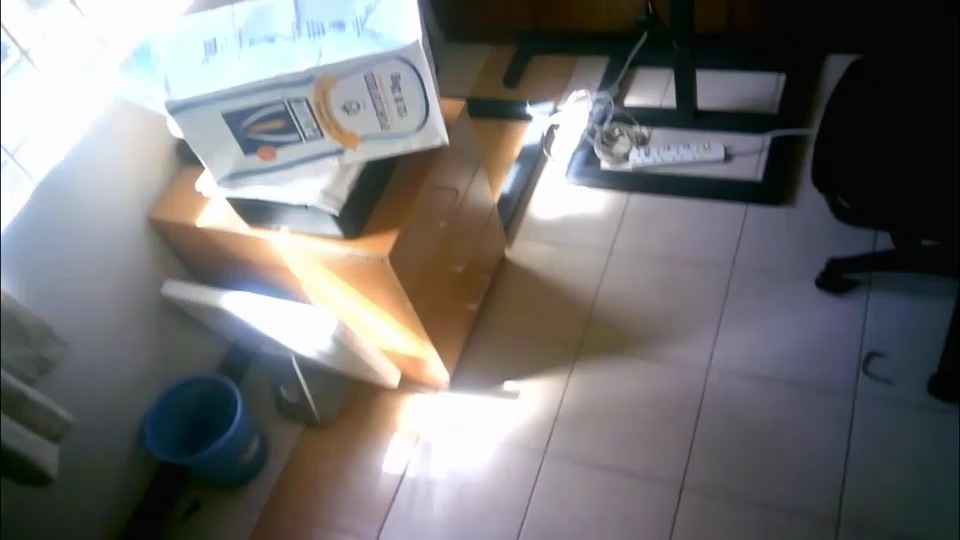wheat_flour_blue_label: (143, 0, 450, 175)
